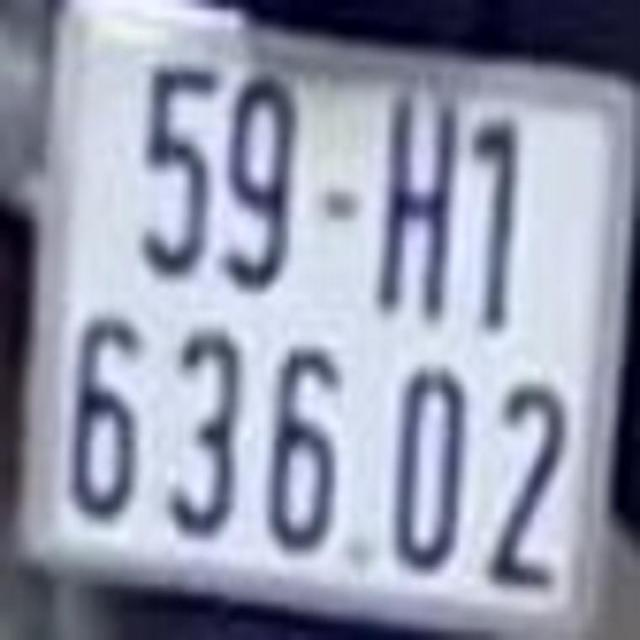0: (400, 367, 460, 572)
1: (470, 116, 518, 327)
2: (494, 382, 566, 588)
3: (168, 324, 241, 532)
5: (147, 62, 216, 276)
6: (266, 348, 341, 548), (70, 314, 141, 516)
9: (226, 76, 296, 295)
H: (379, 88, 452, 321)
